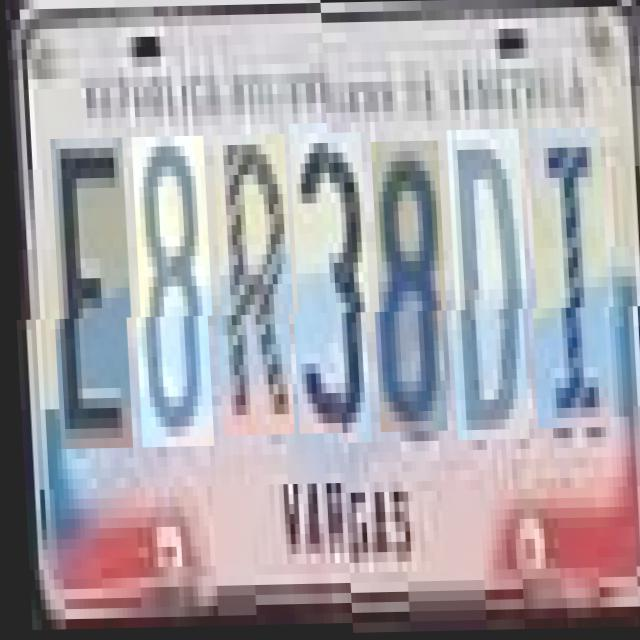3: (288, 134, 372, 445)
8: (130, 146, 214, 458), (369, 142, 448, 434)
D: (445, 131, 529, 442)
E: (50, 148, 134, 459)
I: (526, 130, 610, 431)
R: (211, 146, 295, 447)
